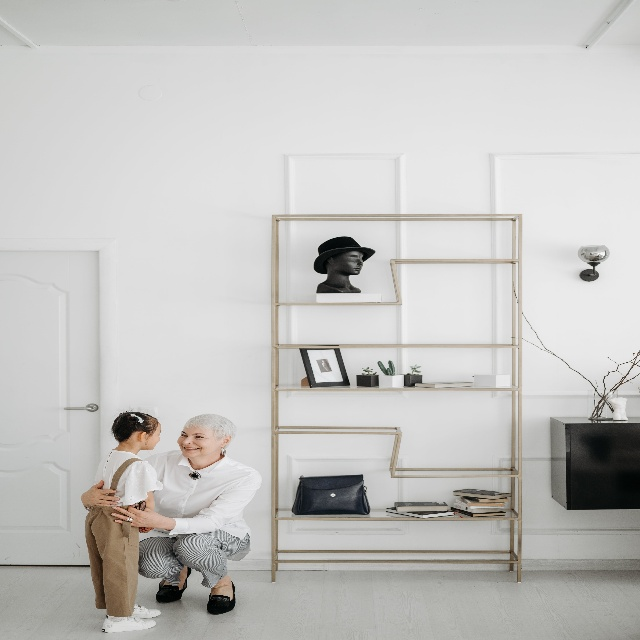Gafas: (138, 500, 146, 510)
Sin_guantes: (110, 503, 158, 533), (80, 480, 119, 510)
